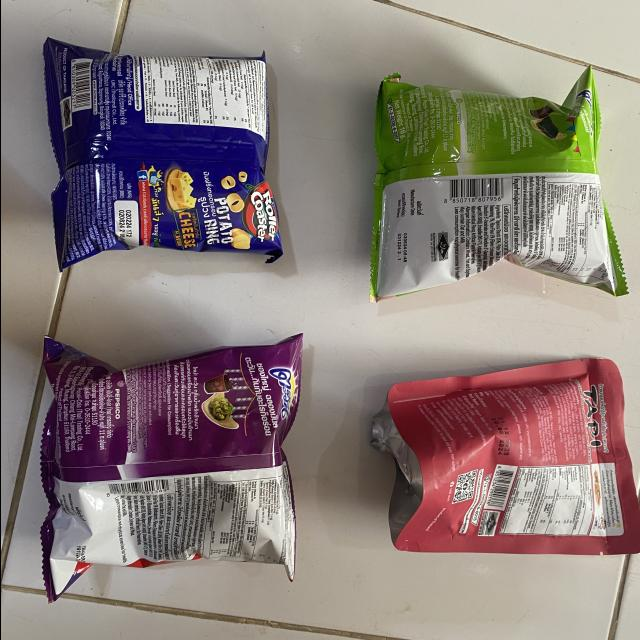plastik: (40, 334, 301, 601), (370, 68, 627, 301), (42, 38, 281, 269), (370, 359, 640, 555)
